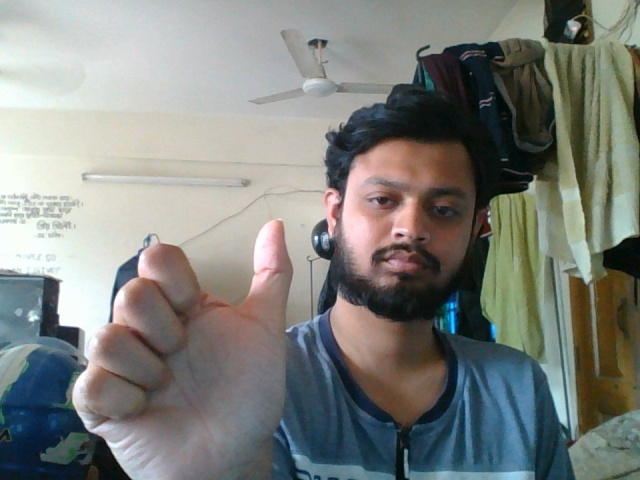dho: (69, 213, 308, 470)
